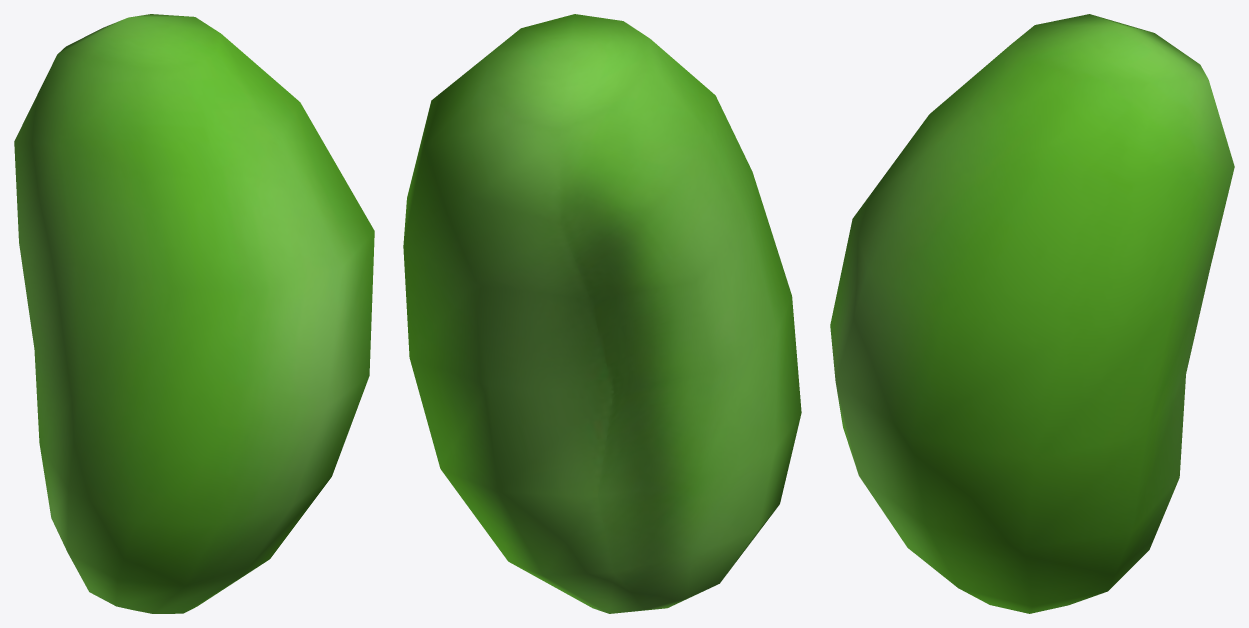
File: bean.fbx
The picture shows the model from 3 angles, left to right: view 1: azimuth 30°, elevation 25°; view 2: azimuth 150°, elevation 25°; view 3: azimuth 270°, elevation 25°; orthographic projection. The views are drawn at different scales.
Visible parts, largest first — view 1: bean; view 2: bean; view 3: bean.
Part boxes in pixels (x1,y1,x2,y2): bean: [14, 14, 374, 613]; bean: [403, 14, 801, 613]; bean: [830, 14, 1234, 613].
Size of the model in its own units: 2.23 by 3.87 by 2.45.
Materials: 1 (1 with a texture image).
